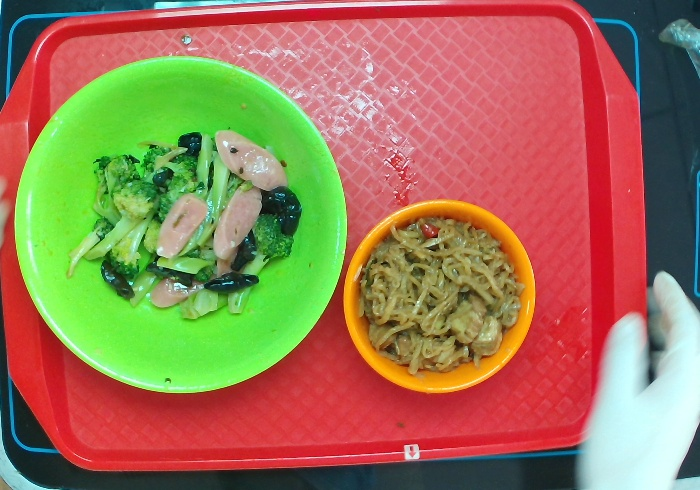YKMZ-Ju_Se_Yuan_Wan: (341, 197, 537, 395)
YKMZ-Lv_Se_Tang_Wan: (13, 54, 349, 395)
